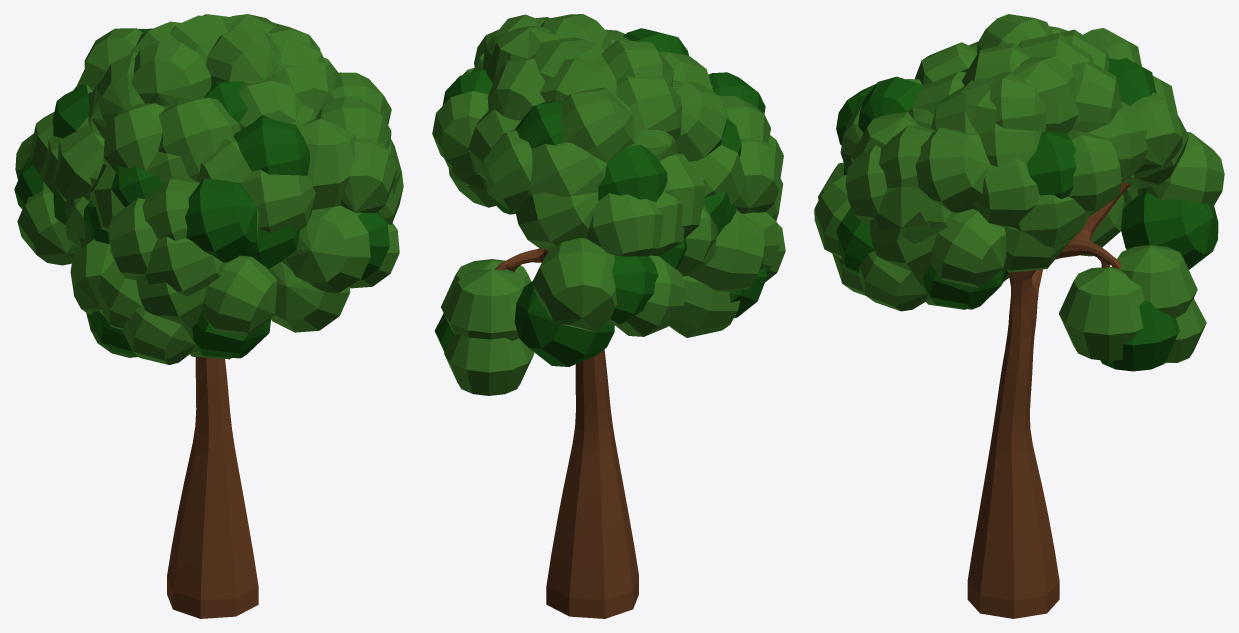
The model's file is arvore 3 folhas! .fbx.
3 renders of one model, left to right at view 1: azimuth 30°, elevation 25°; view 2: azimuth 150°, elevation 25°; view 3: azimuth 270°, elevation 25°, orthographic.
Visible parts, largest first — view 1: Cube; view 2: Cube; view 3: Cube.
Part boxes in pixels (bbox=[...]): Cube: bbox=[14, 14, 403, 618]; Cube: bbox=[432, 14, 785, 618]; Cube: bbox=[814, 14, 1224, 618].
Bounding box in the file's own units: 596 × 1058 × 695.
